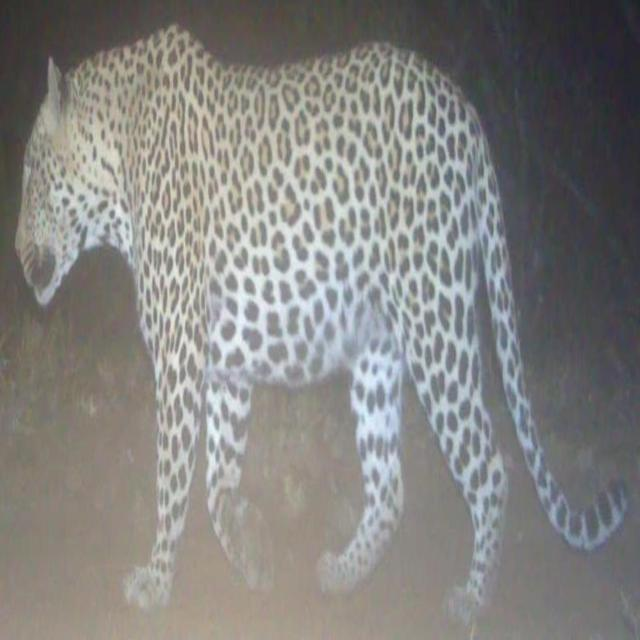Leopard: (23, 48, 634, 640)
